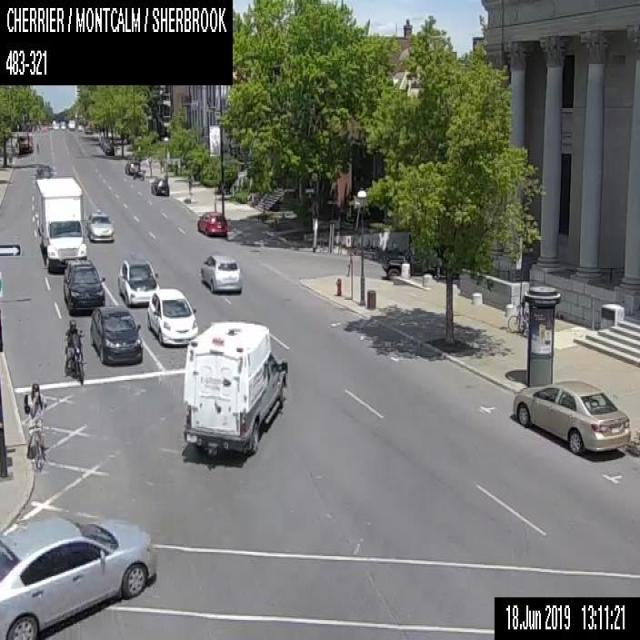cyclist: (22, 381, 44, 468)
vehicle: (0, 513, 156, 638), (182, 320, 288, 458), (511, 376, 631, 455), (33, 175, 86, 271), (89, 304, 142, 366), (145, 284, 197, 346), (62, 258, 105, 315), (381, 245, 443, 279), (117, 258, 159, 305), (199, 251, 240, 292), (64, 317, 84, 384), (86, 208, 114, 242), (195, 209, 228, 235), (506, 312, 524, 332), (150, 177, 169, 195), (18, 131, 32, 153), (34, 164, 54, 178), (124, 159, 140, 173), (103, 142, 114, 155), (67, 118, 74, 128), (78, 124, 82, 130)
